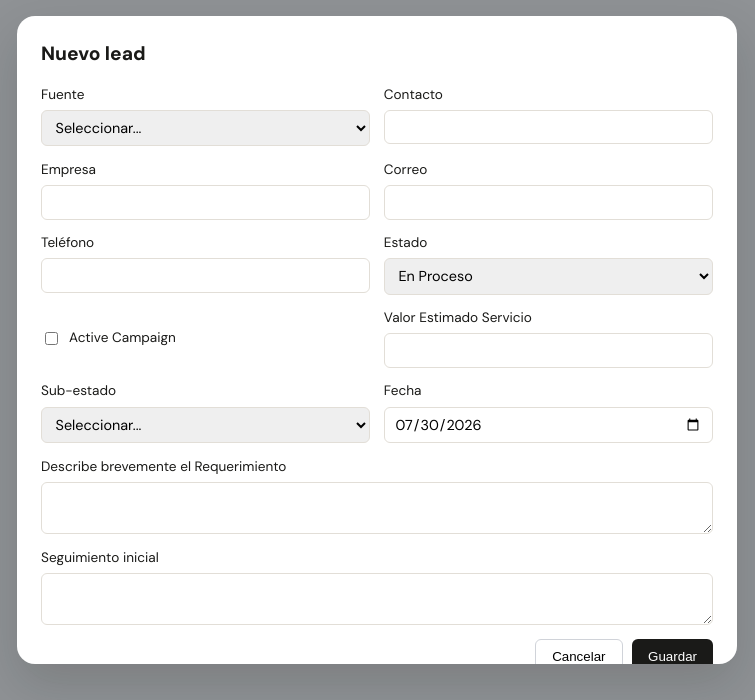
Test: LeadFormModal › validaciones bloquean el submit › proceso sin sub_estado_proceso: bloquea y setea errorValidacion
The image size is (755, 700).
Expected: the text "Contacto" is shown, [384, 85, 713, 146]
Type "Pedro" into the field labelled "Contacto" at (548, 127), box [384, 110, 713, 144]
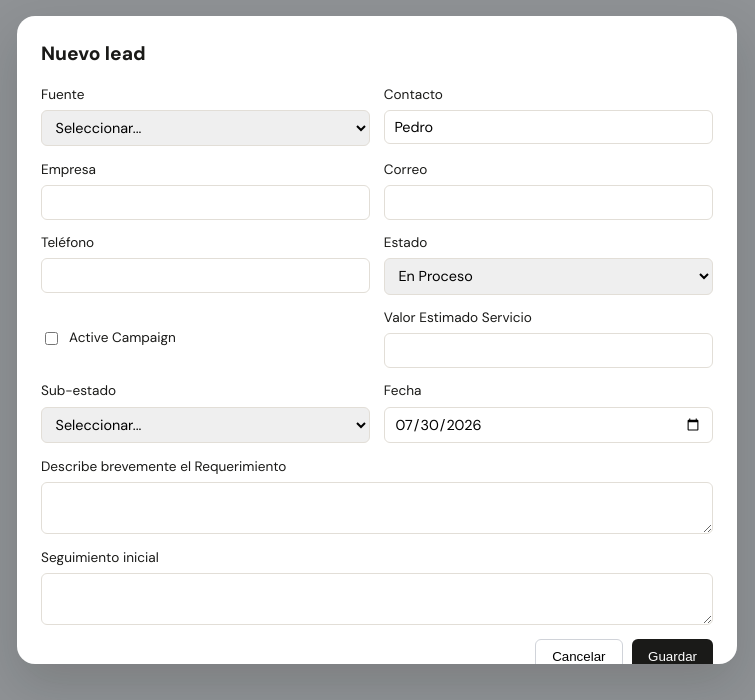
Expected: the text "Fuente" is shown, [41, 85, 370, 146]
Select "Web" in the dropdown labelled "Fuente" at (206, 128), box [41, 110, 370, 146]
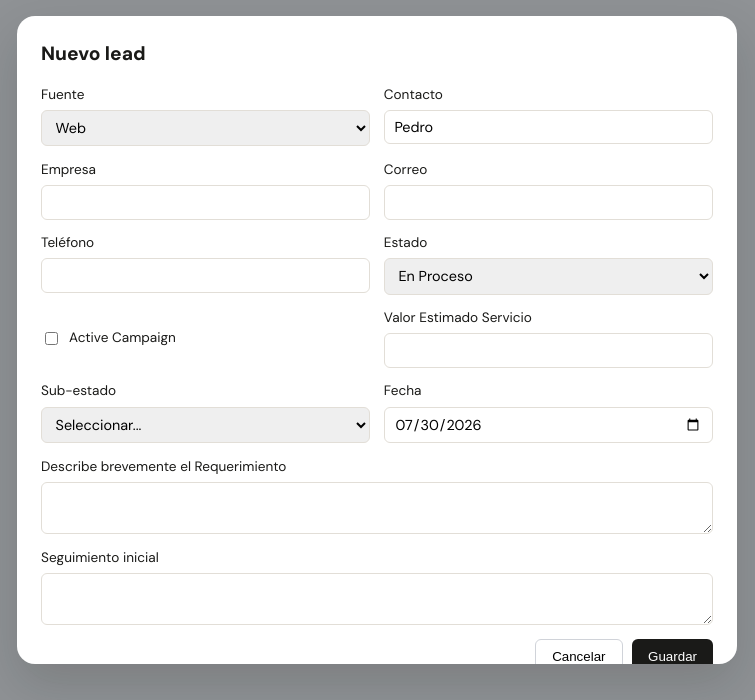
Expected: the text "Empresa" is shown, [41, 160, 370, 220]
Type "Acme" into the field labelled "Empresa" at (206, 202), box [41, 185, 370, 220]
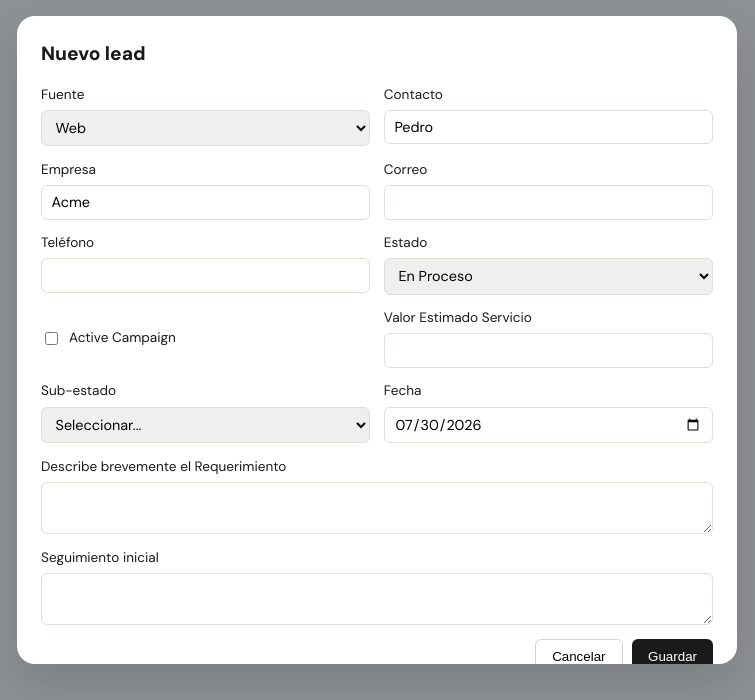
Expected: the text "Correo" is shown, [384, 160, 713, 220]
Type "pedro@acme.com" into the field labelled "Correo" at (548, 202), box [384, 185, 713, 220]
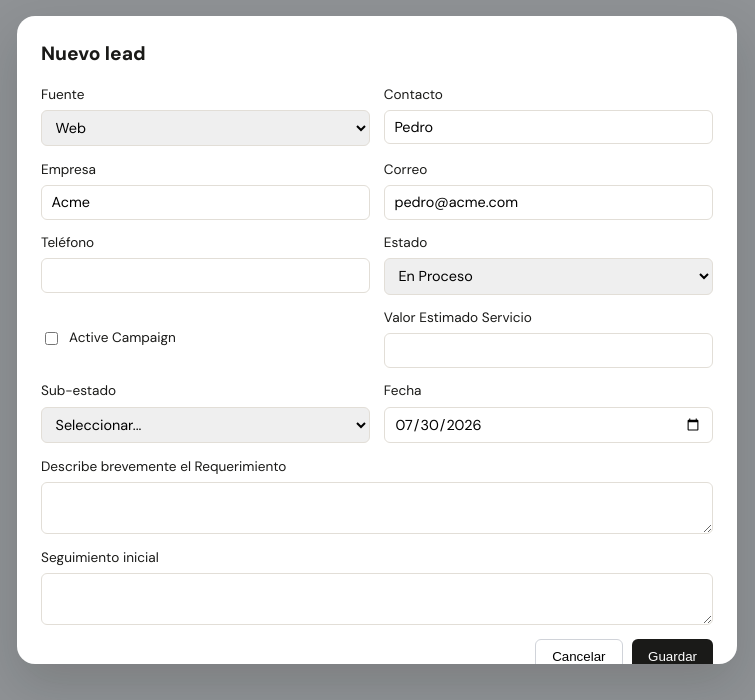
Expected: the text "Fecha" is shown, [384, 381, 713, 443]
Type "2024-05-01" into the date field labelled "Fecha" at (548, 425), box [384, 407, 713, 443]
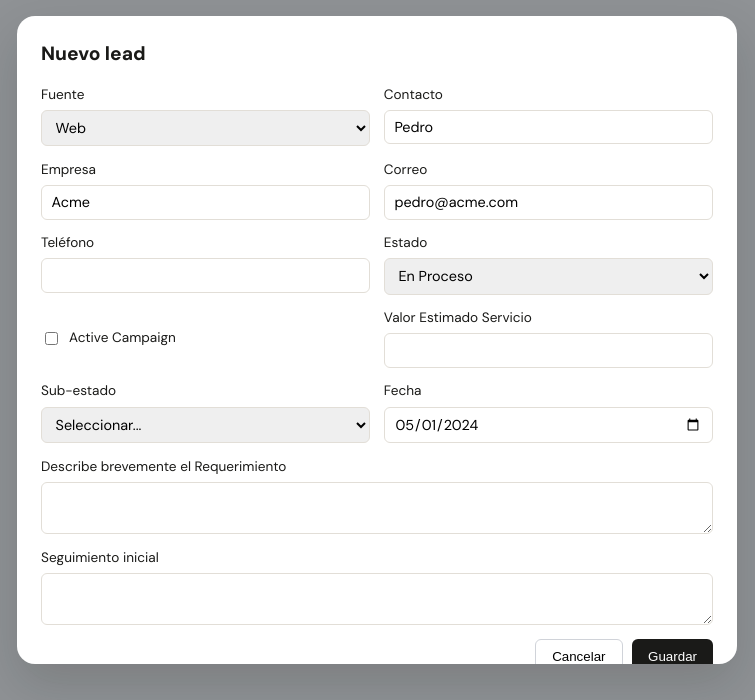
Submit the form
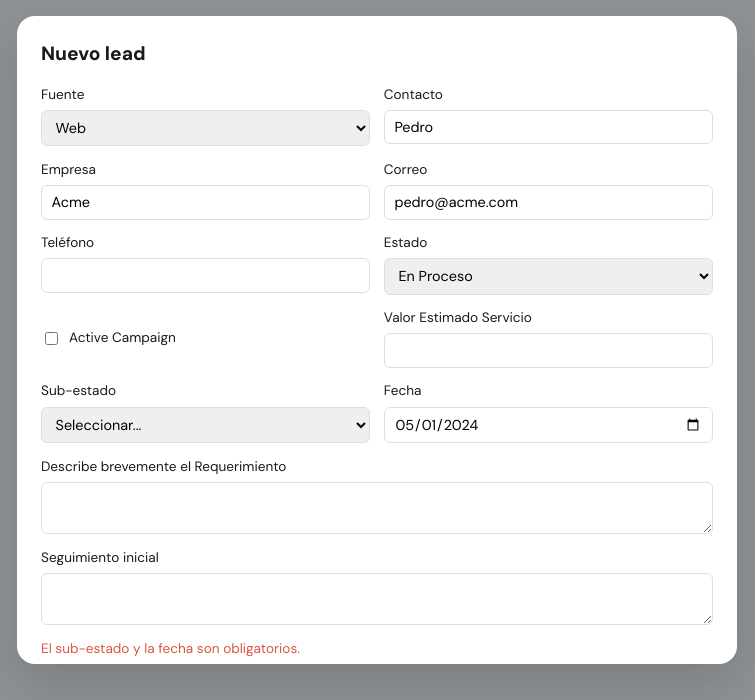
Result: the text "El sub-estado y la fecha son obligatorios." is shown at [41, 640, 300, 657]
